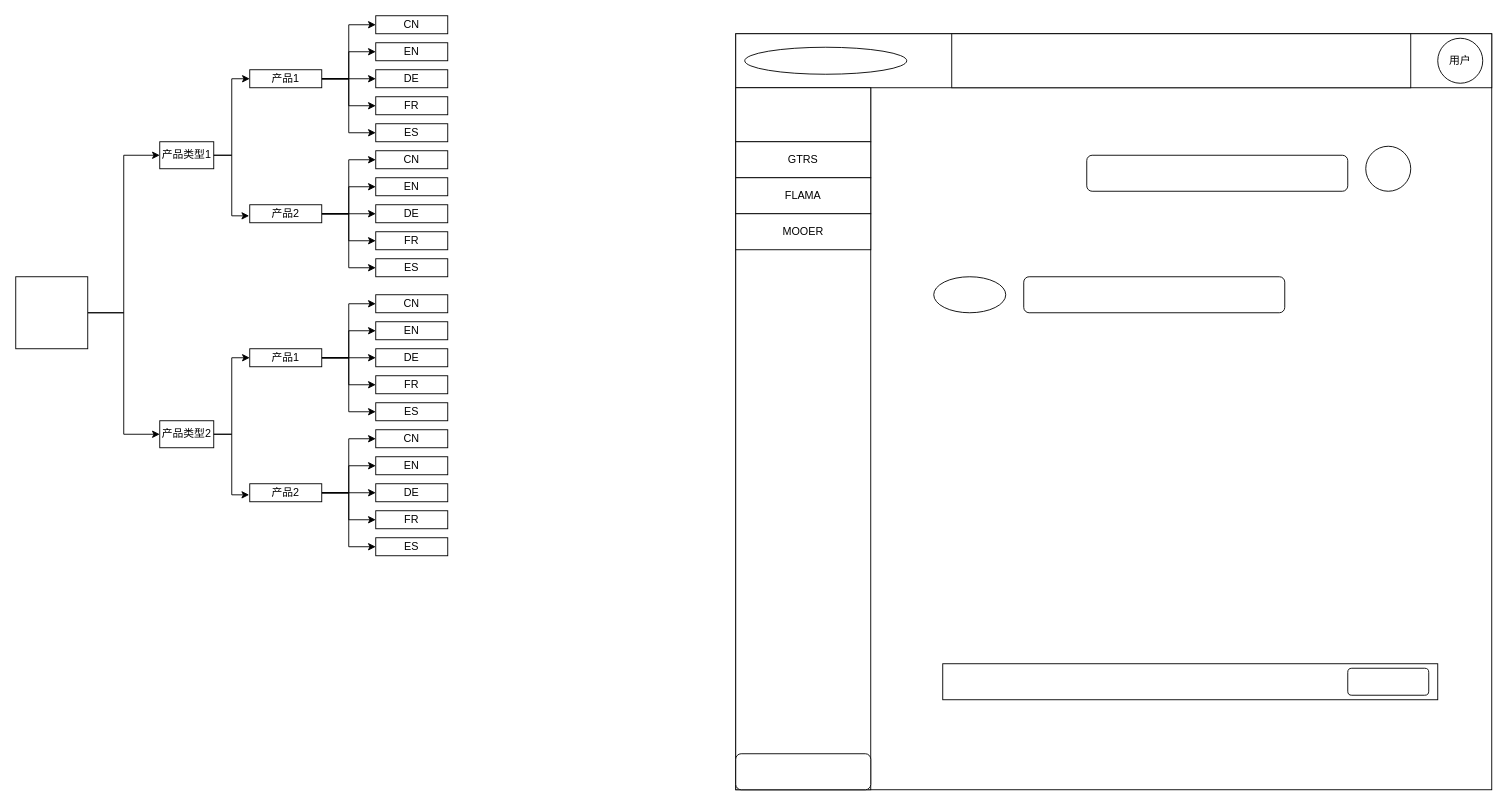
Image size: 1508x806. Some labels were removed from this diagram. The shapes that lost their labels are listed below. From the top down, each one's box as (x1, y1, x2, y2) in pixels, then its label:
(744, 46, 907, 74): logo
(951, 33, 1411, 88): MOOER智能客服后台
(735, 87, 871, 142): 直接问答（训练ai）
(15, 276, 88, 349): 已经解析好的 Markdown 文档
(735, 753, 871, 790): 基本设置
